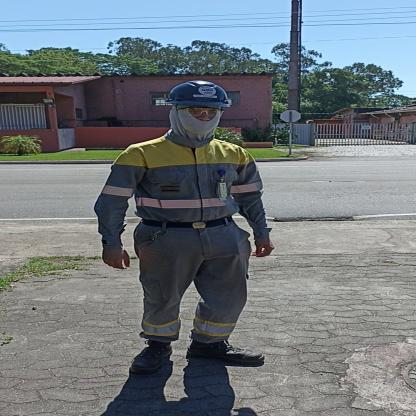Balaclava: (170, 104, 220, 141)
Capacete: (165, 79, 230, 106)
